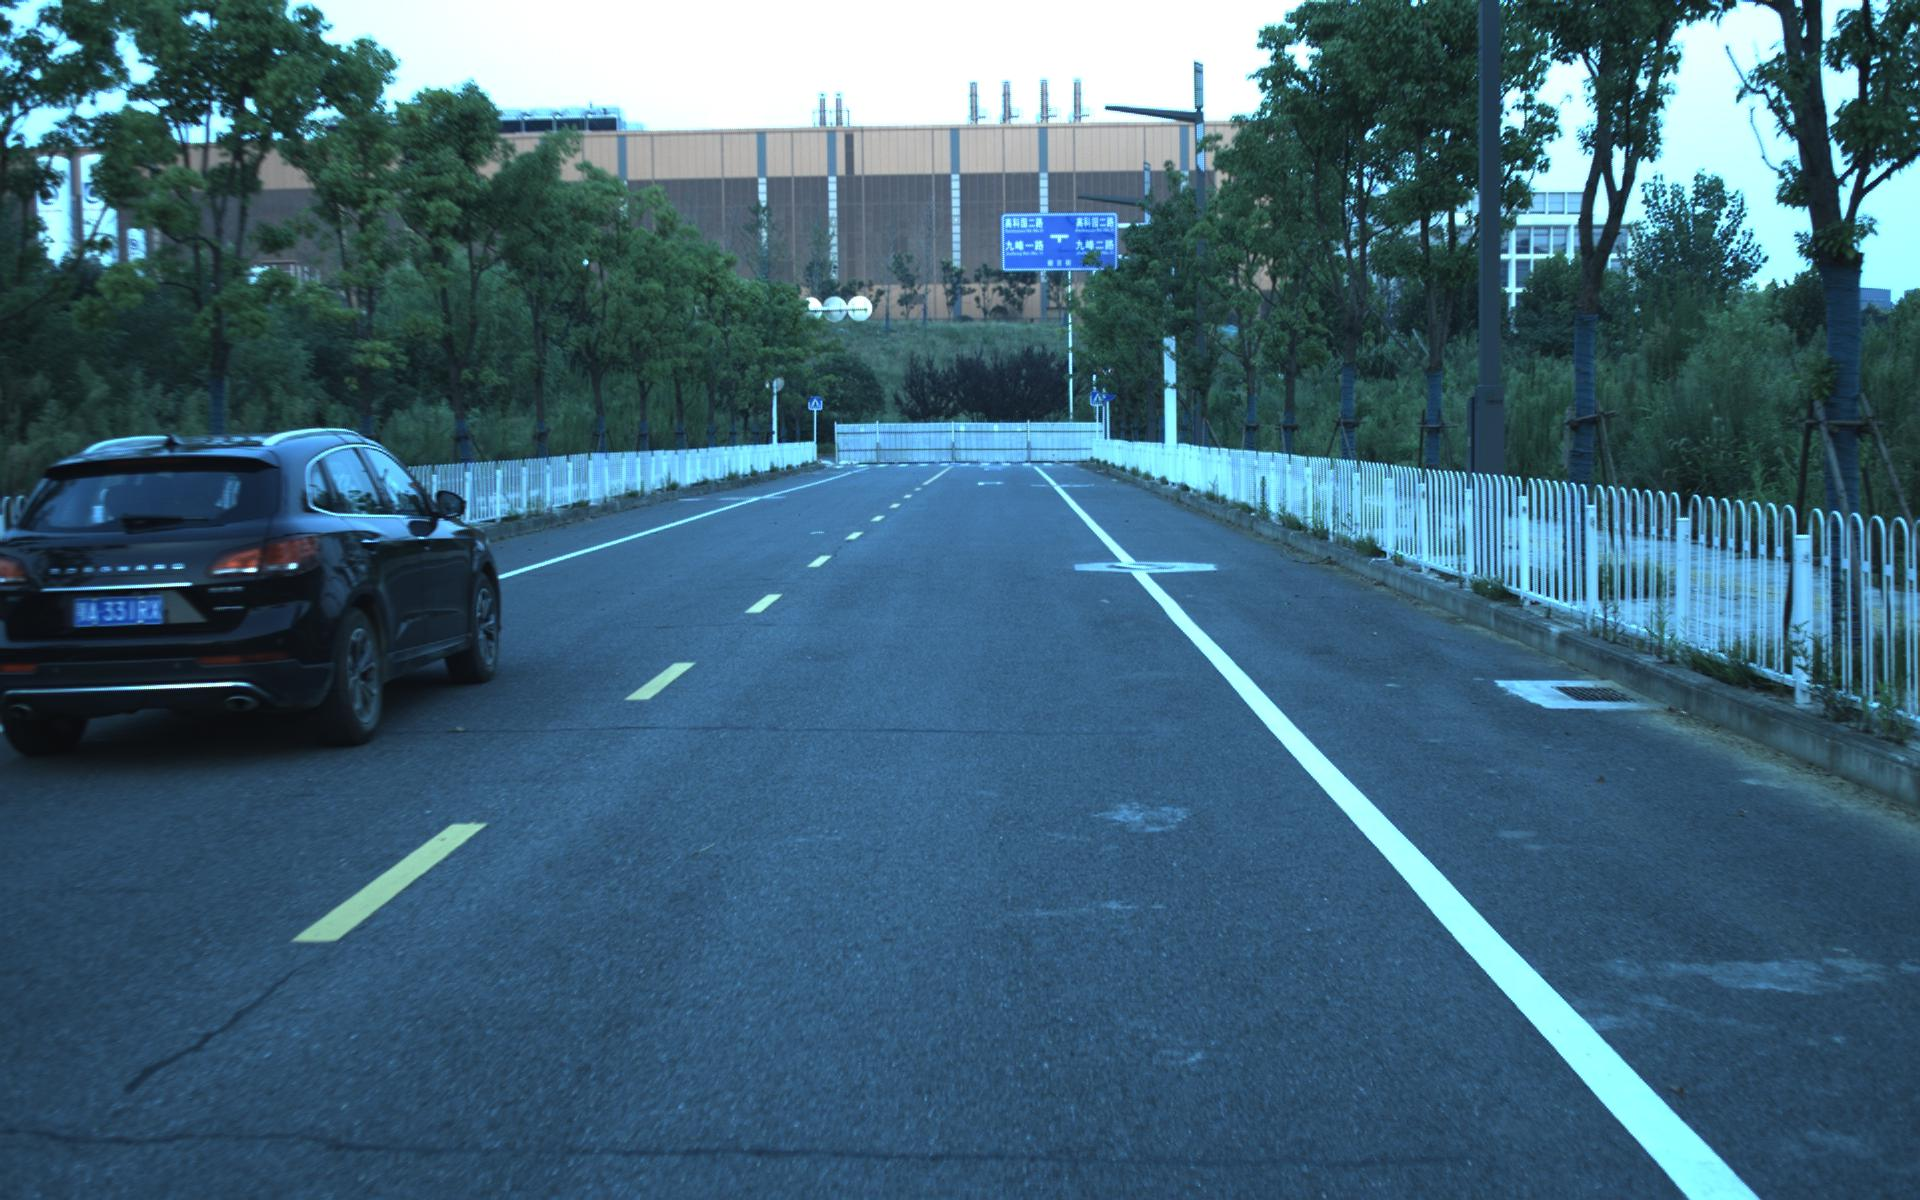Car: (1, 413, 507, 760)
